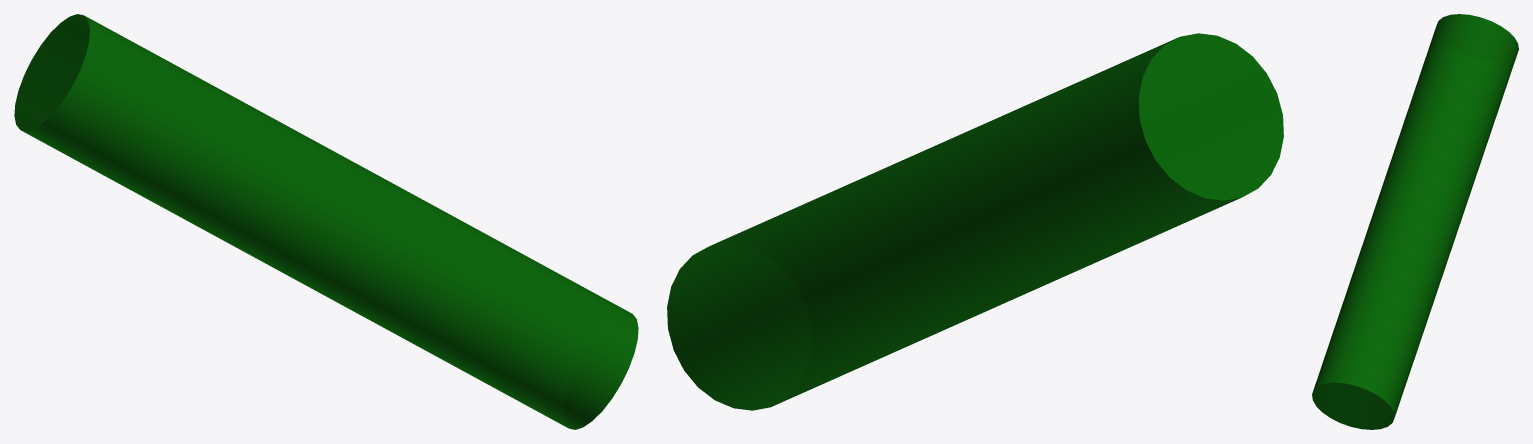
File: Event_420604493_jet_2.fbx
3 views of the same model, side by side, from view 1: azimuth 30°, elevation 25°; view 2: azimuth 150°, elevation 25°; view 3: azimuth 270°, elevation 25° (orthographic). The views are drawn at different scales.
Parts seen in each view (by area): view 1: Model; view 2: Model; view 3: Model.
Boxes of the visible parts, x1,y1,x2,y2 form: Model: (14,14,638,429); Model: (667,33,1283,410); Model: (1312,14,1518,429).
Bounding box in the file's own units: 0.1847 × 0.1475 × 0.096.
